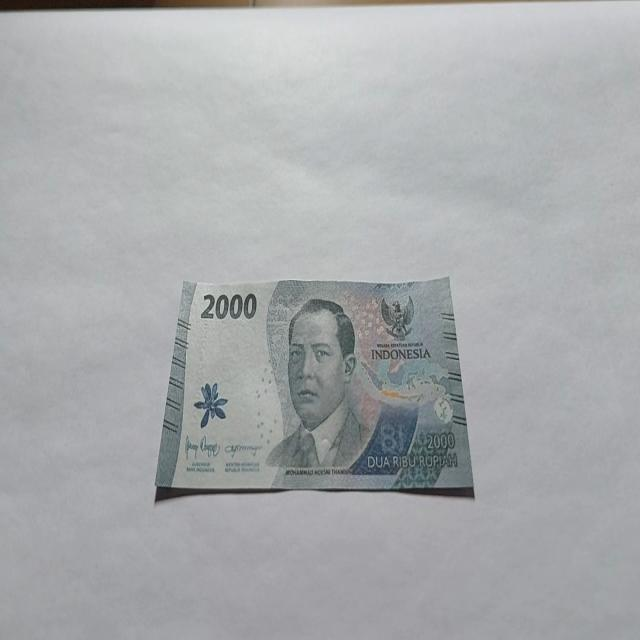dua ribu rupiah: (153, 274, 474, 501), (265, 295, 373, 477)
